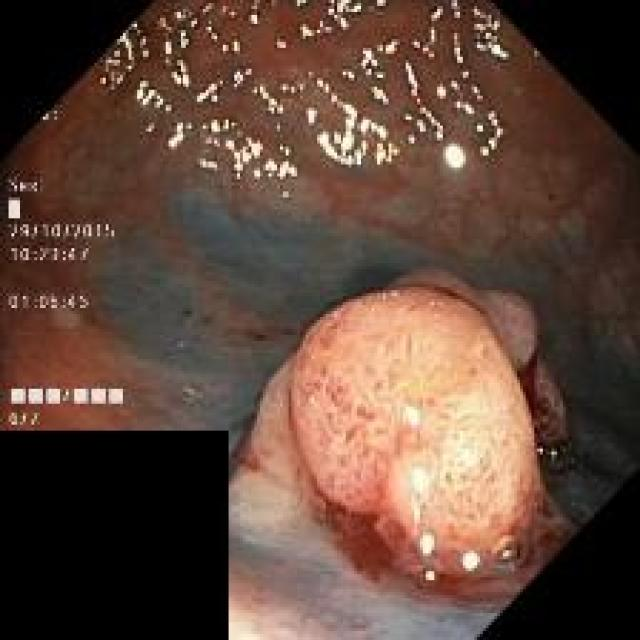Polyps: (242, 270, 570, 580)
